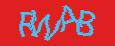A: (60, 5, 81, 31)
B: (76, 10, 94, 35)
R: (20, 12, 37, 36)
W: (30, 10, 63, 40)
